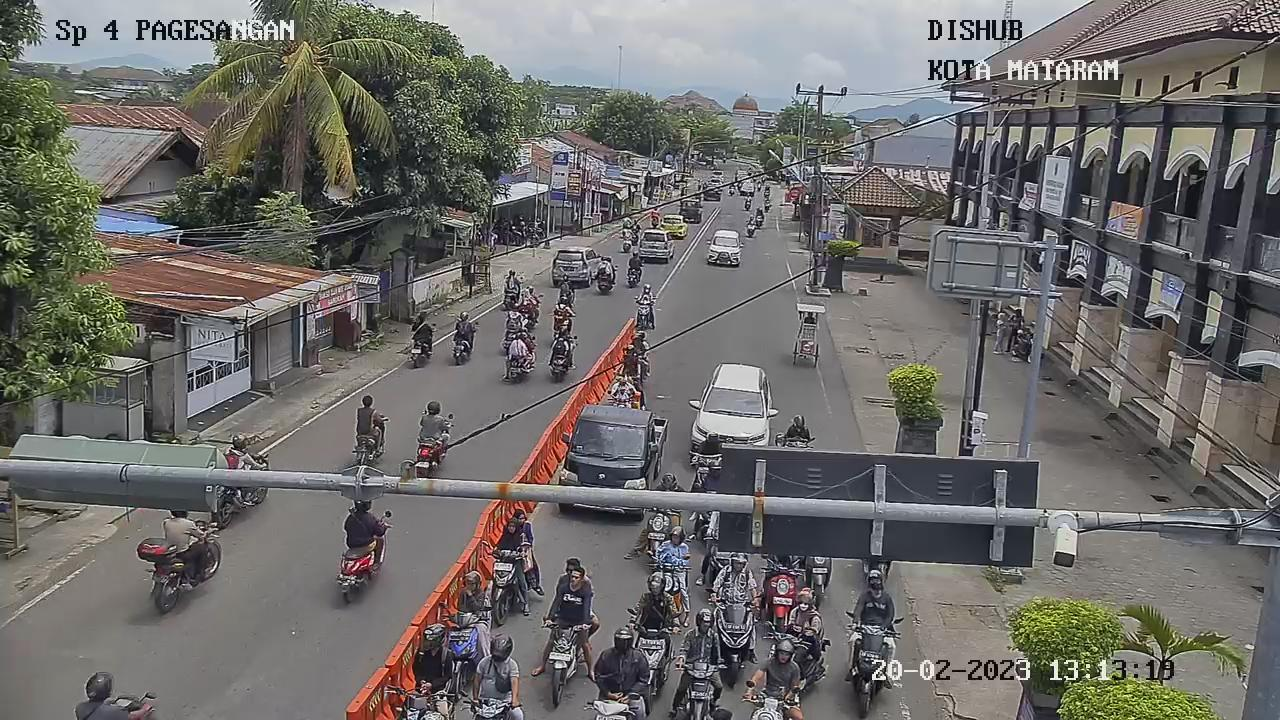car: (692, 363, 774, 442), (706, 229, 743, 268), (631, 233, 669, 263)
motorbike: (839, 607, 907, 719), (434, 597, 495, 691), (534, 612, 588, 703), (480, 535, 532, 623), (711, 595, 759, 689), (668, 651, 729, 720), (622, 612, 671, 689), (757, 553, 803, 634), (799, 552, 838, 607), (640, 505, 676, 560), (630, 293, 660, 333), (744, 219, 759, 239)
person: (742, 633, 808, 713), (847, 566, 908, 631), (470, 633, 521, 702), (630, 567, 681, 634), (706, 546, 760, 609), (548, 553, 595, 624), (408, 621, 455, 688), (676, 603, 725, 666), (781, 584, 827, 641), (416, 394, 461, 452), (652, 523, 695, 583), (493, 513, 529, 560), (451, 566, 486, 611), (688, 427, 725, 469), (777, 409, 812, 449), (352, 392, 384, 435), (448, 309, 478, 346), (608, 366, 638, 403), (408, 310, 435, 346), (618, 342, 643, 375), (628, 328, 649, 361), (548, 328, 571, 358), (635, 281, 658, 307), (508, 329, 530, 356), (500, 266, 521, 294), (551, 295, 572, 322), (505, 300, 525, 327), (521, 285, 541, 307), (557, 273, 574, 297), (597, 255, 615, 276)
truck: (556, 397, 671, 514)
